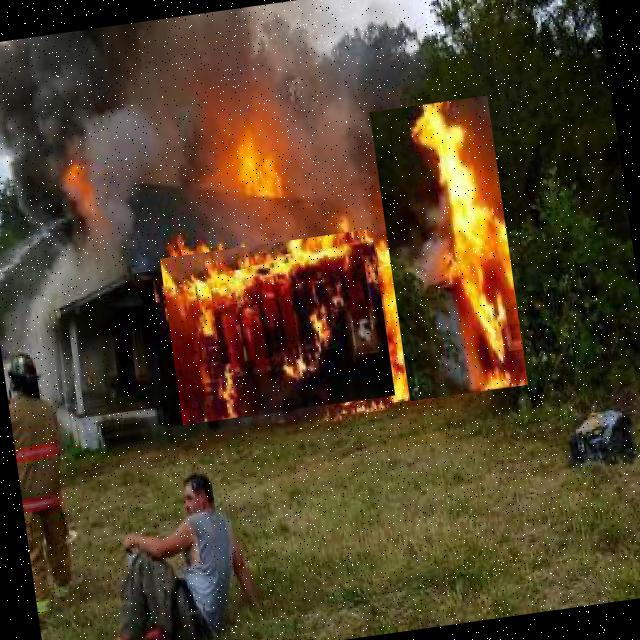fire: (370, 96, 528, 402), (160, 229, 395, 425), (208, 105, 314, 206), (56, 152, 111, 236)
